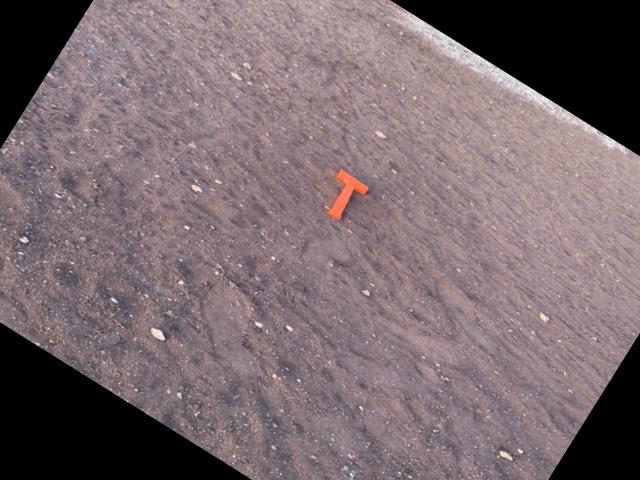hammer: (314, 168, 370, 226)
